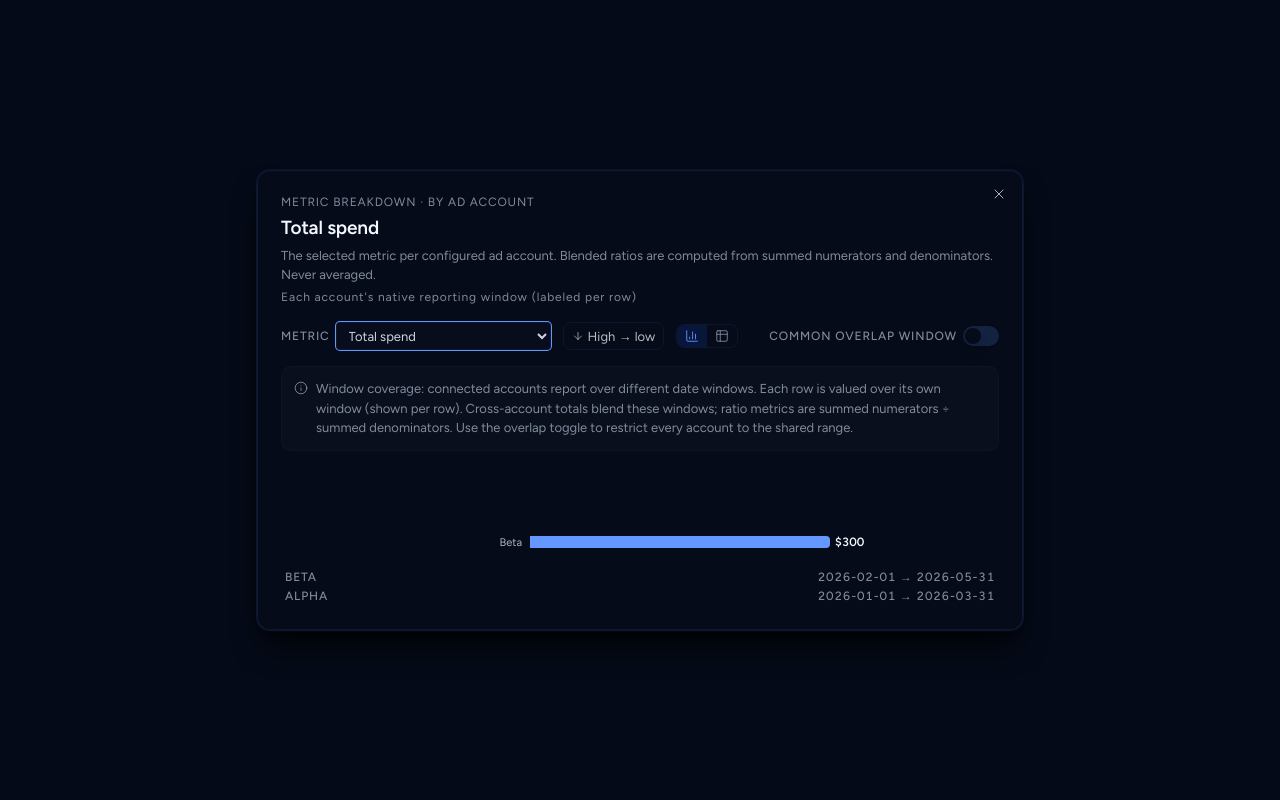
Test: KpiDrilldownModal · manager scope › metric switcher changes the visualized metric
Select "Link CTR" in the dropdown labelled "Metric": (443, 336) [336, 322, 551, 350]
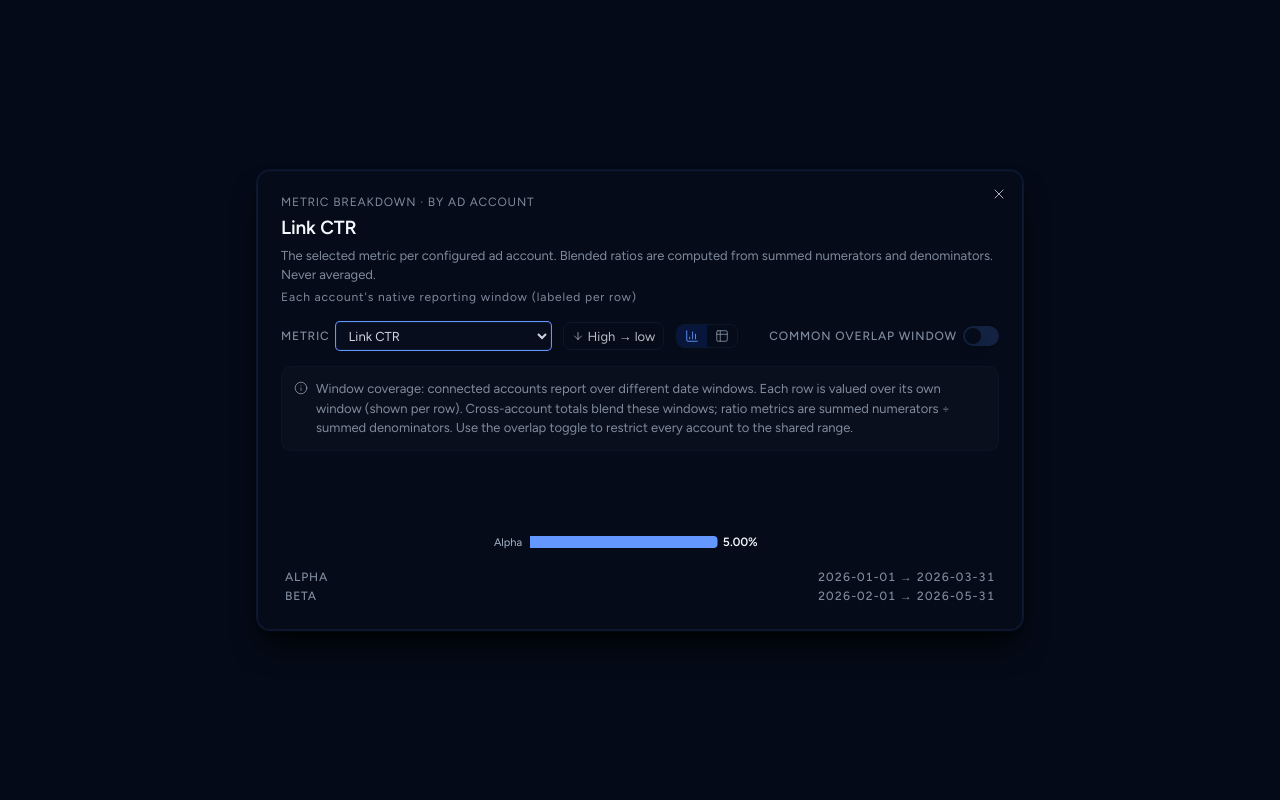
Click the button named "Table view": (722, 336) [707, 326, 737, 348]
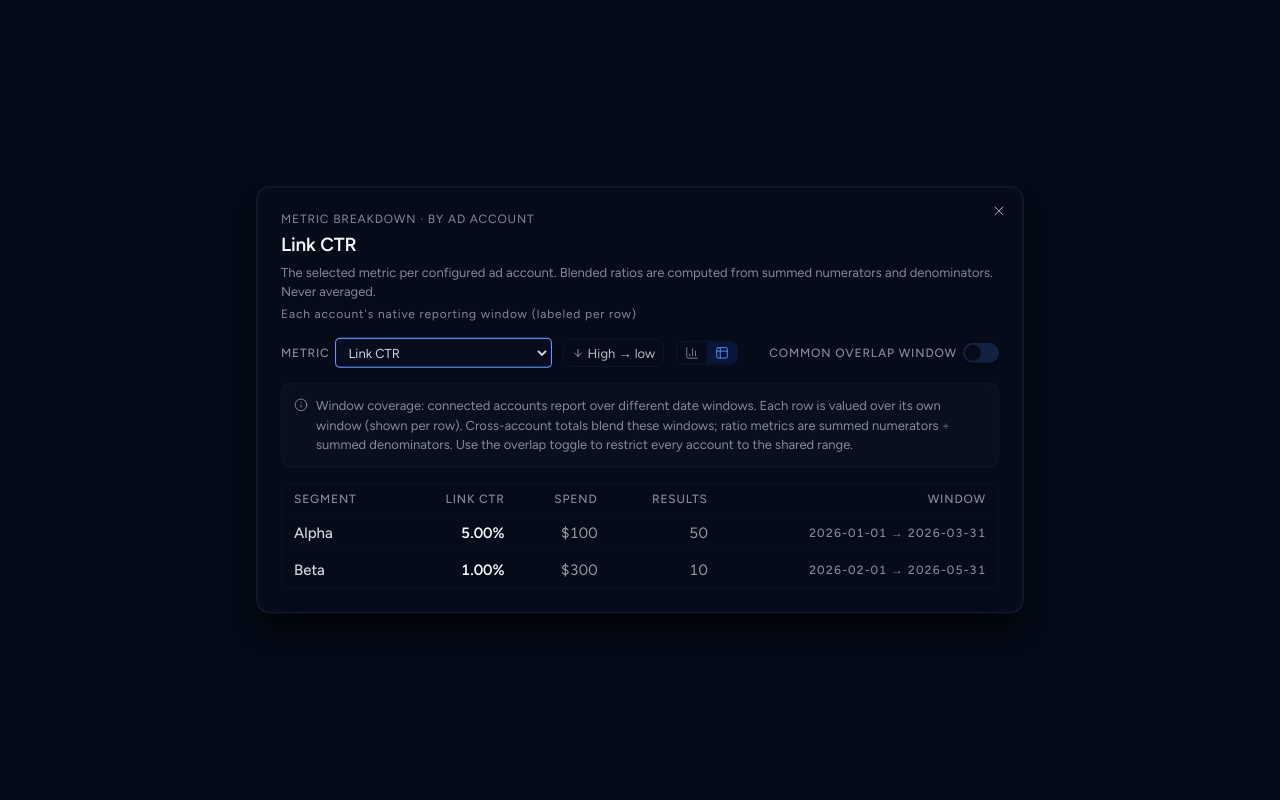
Result: the element with test id "kpi-drilldown-table" shows "5.00%" at [461, 524, 505, 542]
Result: the element with test id "kpi-drilldown-table" shows "1.00%" at [461, 561, 505, 579]
